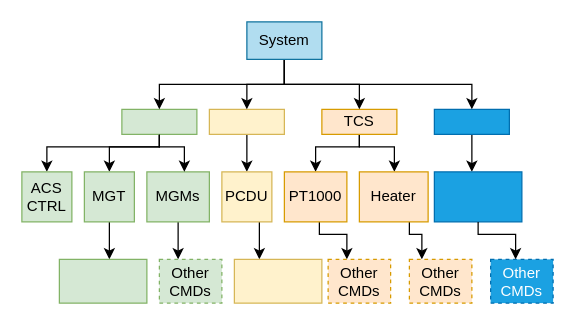
Image size: 575x325. Some labels were removed from this diagram. Each missing label, with the centre of its shape:
"ACS" belongs at point (159, 121).
"Channel(s) ON/OFF" belongs at point (277, 280).
"COM" belongs at point (471, 121).
"EPS" belongs at point (246, 121).
"Set Dipoles" belongs at point (102, 280).
"UHF Transceiver" belongs at point (477, 196).
